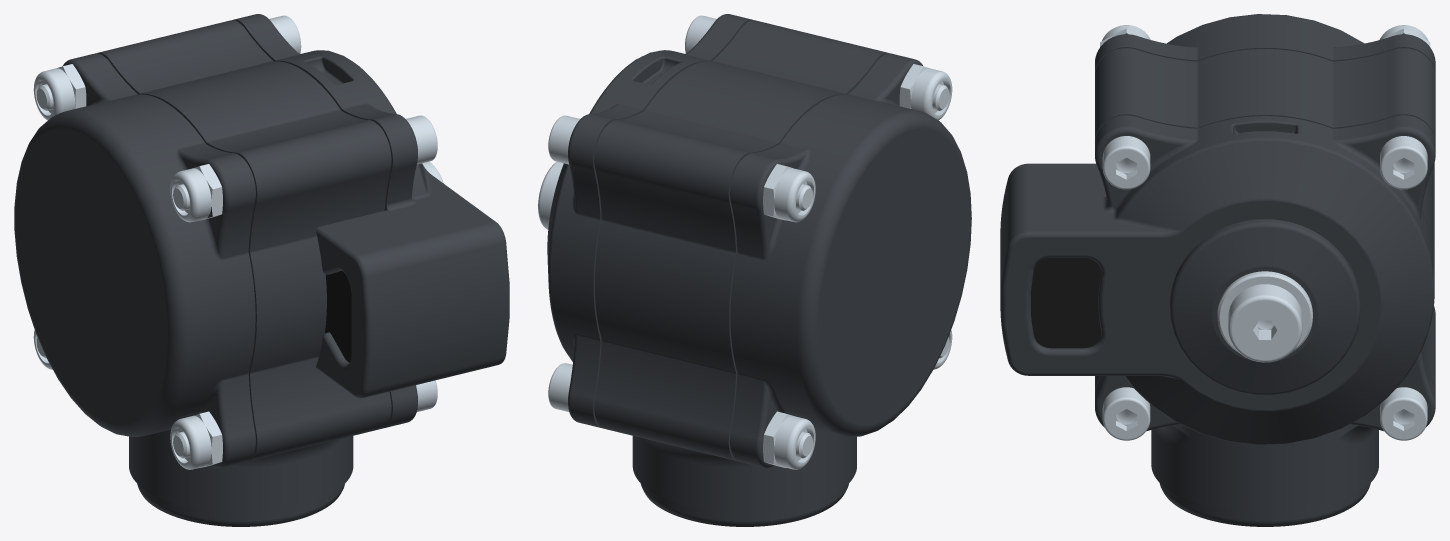
The picture shows the model from 3 angles, left to right: view 1: azimuth 30°, elevation 25°; view 2: azimuth 150°, elevation 25°; view 3: azimuth 270°, elevation 25°; orthographic projection.
Parts seen in each view (by area): view 1: ID2; view 2: ID2; view 3: ID2.
Boxes of the visible parts, x1,y1,x2,y2 form: ID2: [14, 14, 509, 526]; ID2: [538, 14, 971, 526]; ID2: [1000, 14, 1435, 526].
Bounding box in the file's own units: 0.0375 × 0.0411 × 0.0418.
